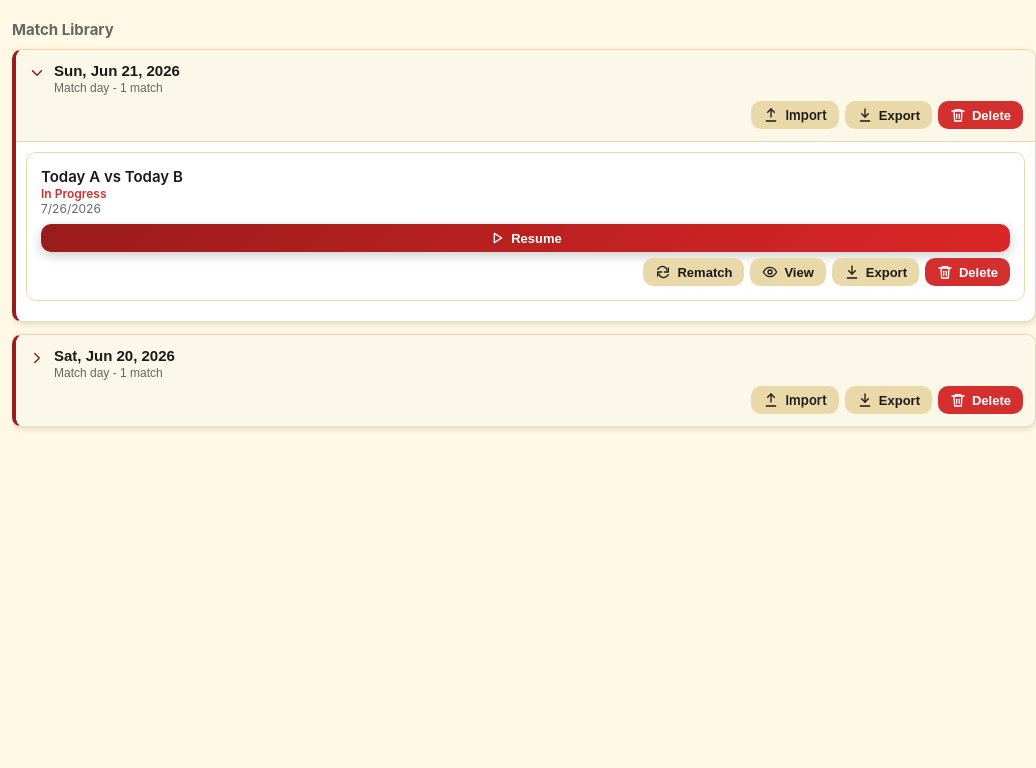
MatchList - sync export buttons › collapses older groups by default and expands when tapped
This screenshot has width=1036, height=768.
Expected: the text "Today A vs Today B" is shown, [41,167,183,186]
Expected: the text "Old A vs Old B" is not shown
Click the text "Sat, Jun 20, 2026" at (114, 356), box [54,347,175,364]
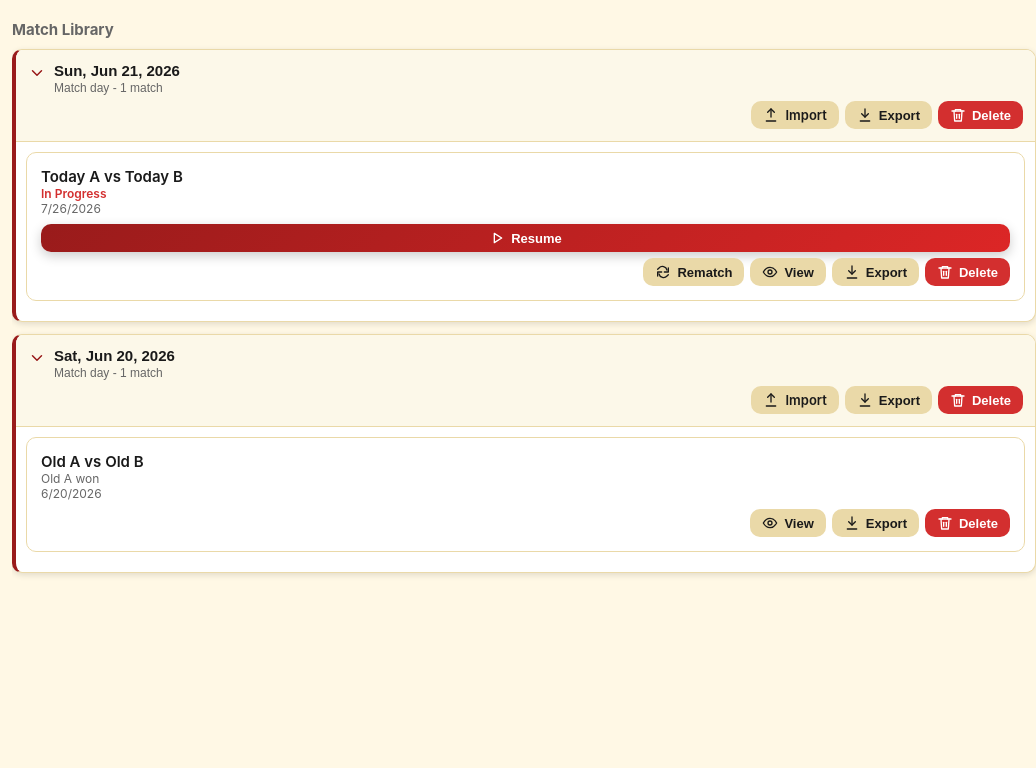
Expected: the text "Old A vs Old B" is shown, [41,452,144,471]
